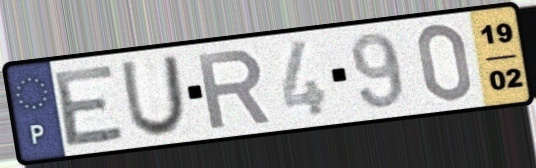0: (413, 21, 475, 105)
4: (279, 38, 330, 121)
9: (348, 30, 407, 112)
E: (52, 61, 129, 150)
R: (194, 47, 275, 132)
U: (118, 52, 189, 139)
